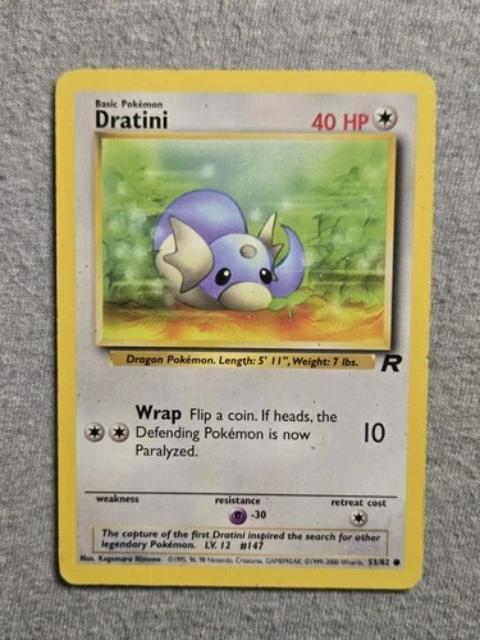Card: (53, 68, 441, 598)
Name: (92, 108, 173, 131)
